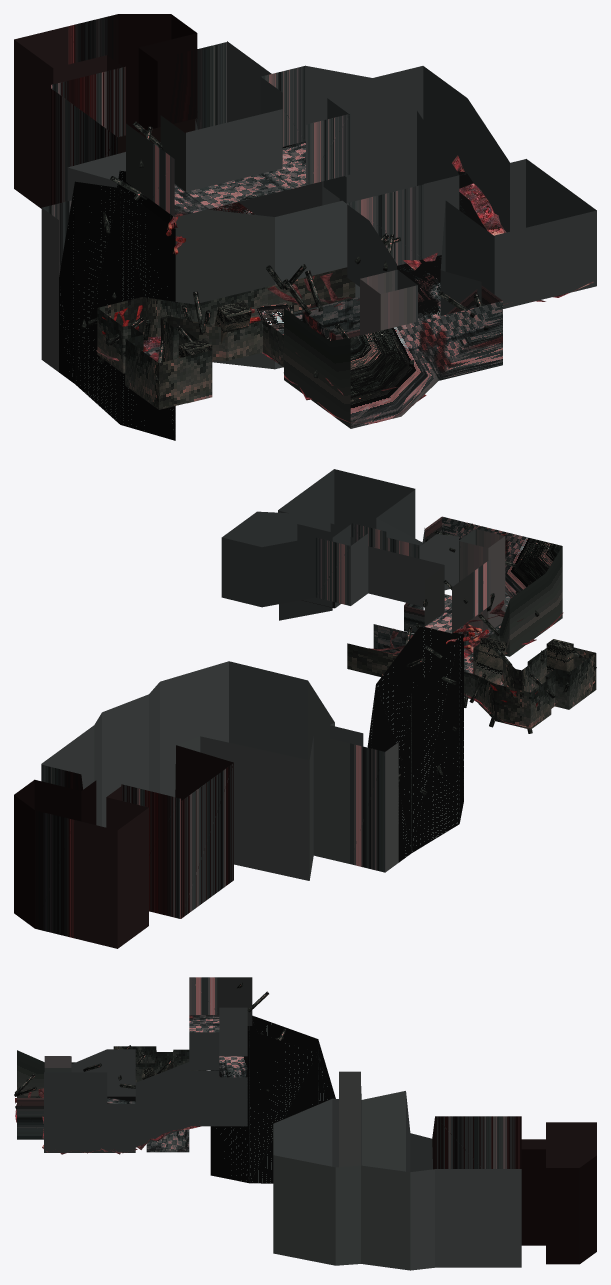
The model's file is leash_loc.glb.
3 renders of one model, top to bottom at view 1: azimuth 30°, elevation 25°; view 2: azimuth 150°, elevation 25°; view 3: azimuth 270°, elevation 25°, orthographic. The views are drawn at different scales.
Visible parts, largest first — view 1: Cube, Plane.038, Plane.002, Plane.019, Plane.003; view 2: Cube, Plane.002, Plane.001; view 3: Cube.
Part boxes in pixels (<box>): Cube: <box>14,14,596,440</box>; Plane.038: <box>452,155,506,235</box>; Plane.002: <box>214,300,251,343</box>; Plane.019: <box>267,273,359,310</box>; Plane.003: <box>255,303,289,329</box>; Cube: <box>14,469,596,948</box>; Plane.002: <box>475,637,507,684</box>; Plane.001: <box>546,639,573,674</box>; Cube: <box>17,977,596,1270</box>.
Size of the model in its own units: 17.7 by 13.5 by 34.97.
Materials: 1 (1 with a texture image).
